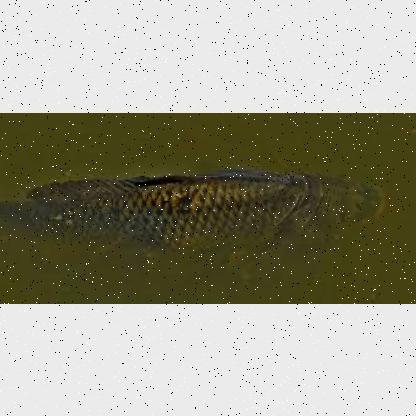ikan-mas: (0, 163, 384, 263)
